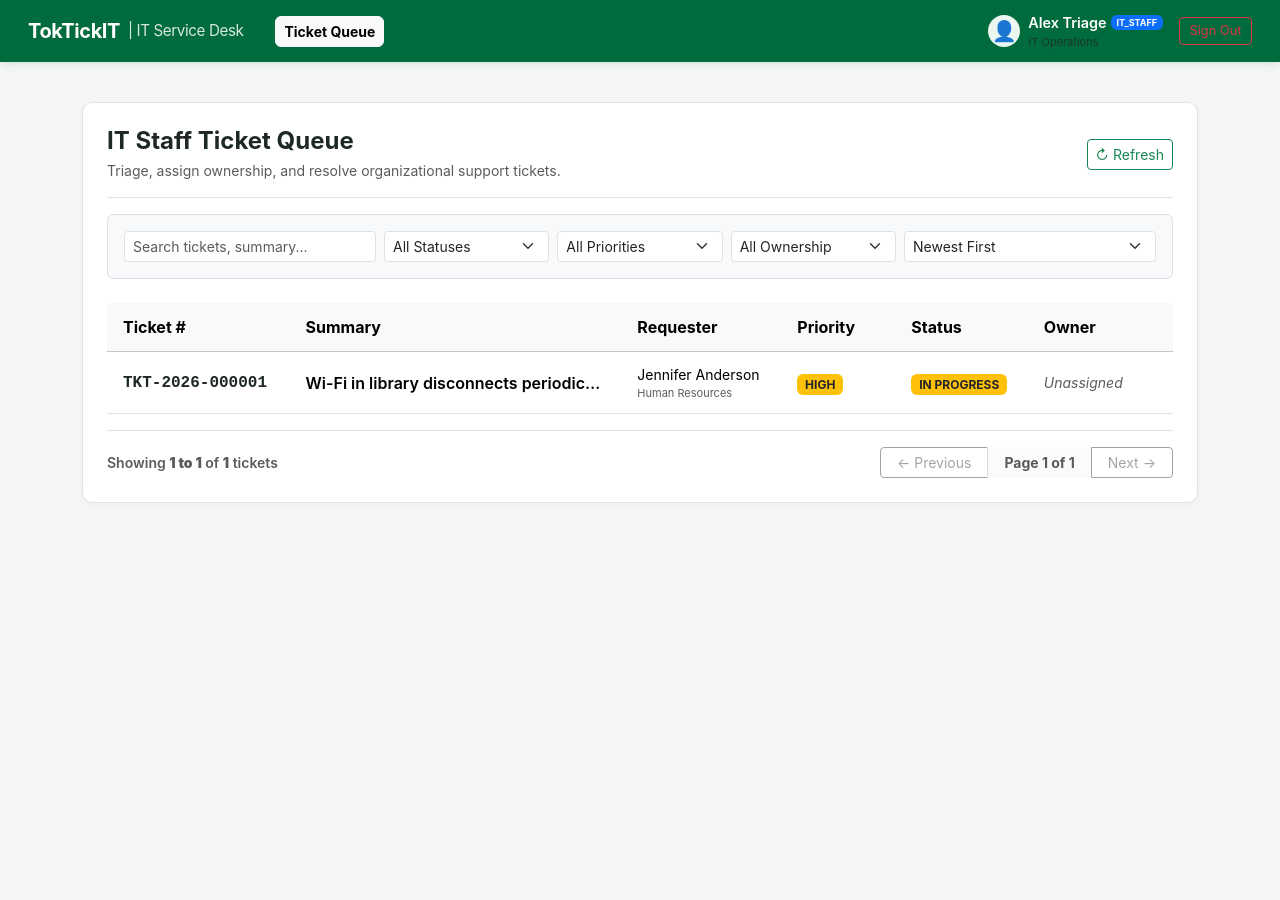
Scenario: Lab 3 Staff Operations (Queue, Detail, Ownership, Comments & Notes) (TEST-QUEUE-01..03, TEST-DETAIL-01..03, TEST-COMM-01..03) › renders Staff Queue and navigates to Detail on row click
Check: the text "TKT-2026-000001" is shown, box [107, 351, 290, 414]
Check: the text "Wi-Fi in library disconnects periodically" is shown, box [290, 351, 621, 414]
Note: Click ticket row
Click the row with test id "staff-ticket-row-1" at (640, 383), box [107, 351, 1173, 414]
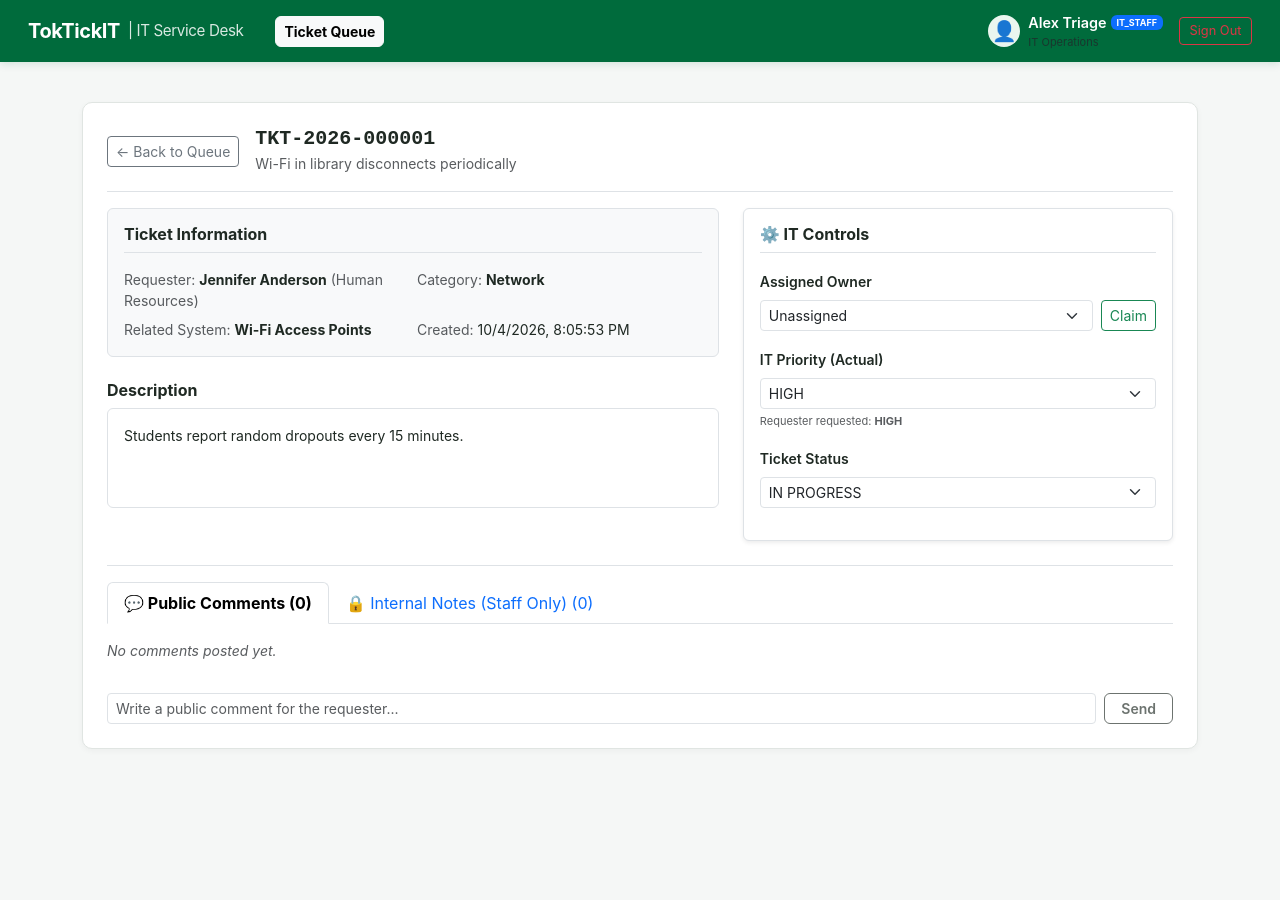
Check: the element with test id "staff-ticket-detail-card" is shown
Check: the element with test id "it-controls-panel" is shown, box [743, 208, 1173, 541]
